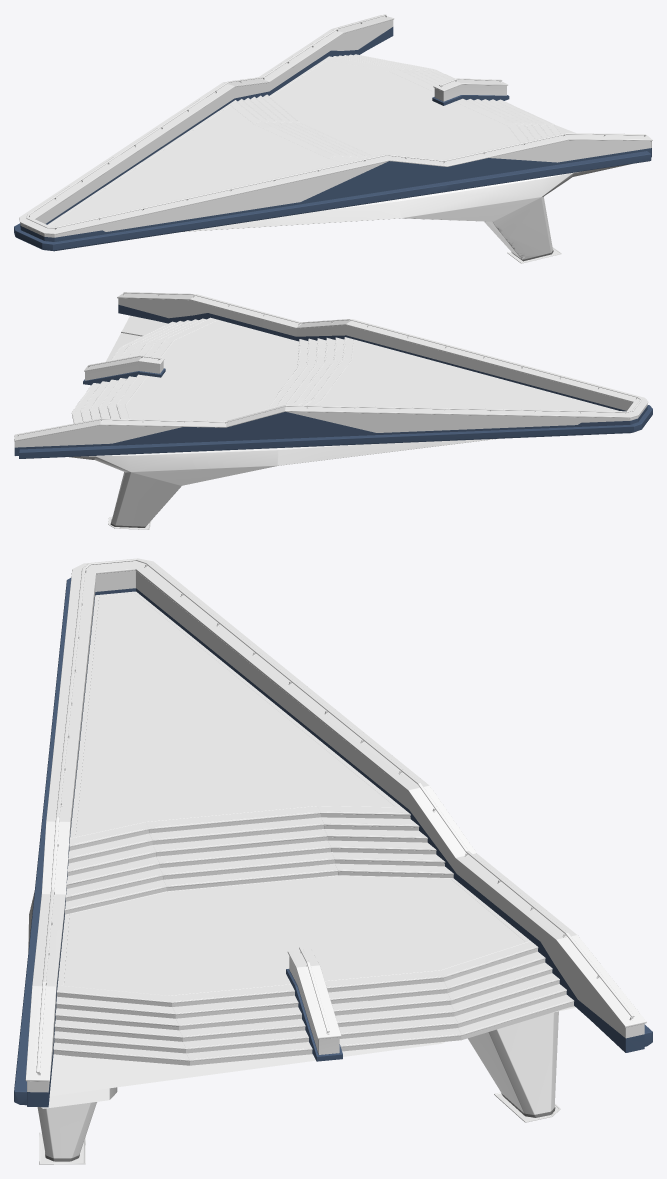
The picture shows the model from 3 angles, top to bottom: view 1: azimuth 30°, elevation 25°; view 2: azimuth 150°, elevation 25°; view 3: azimuth 270°, elevation 25°; orthographic projection. The views are drawn at different scales.
Parts seen in each view (by area): view 1: SM_I_RoadFacility_Ground_D_16B; view 2: SM_I_RoadFacility_Ground_D_16B; view 3: SM_I_RoadFacility_Ground_D_16B.
Boxes of the visible parts, x1,y1,x2,y2 form: SM_I_RoadFacility_Ground_D_16B: [14, 14, 652, 263]; SM_I_RoadFacility_Ground_D_16B: [14, 292, 652, 529]; SM_I_RoadFacility_Ground_D_16B: [14, 558, 652, 1164].
Size of the model in its own units: 681 by 1174 by 254.
